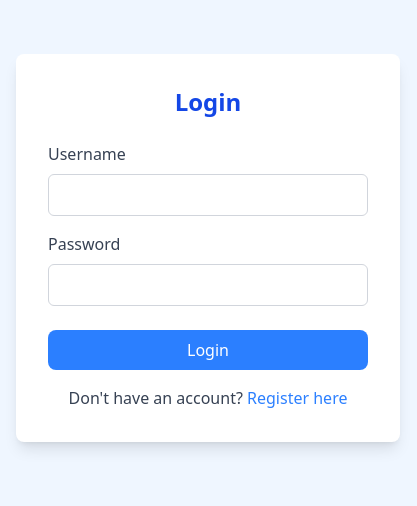
it: Login.tsx tests › should show error when password is too weak
Type "testuser" into the field labelled "Username".
click(208, 195); type("testuser")  # box [48,174,368,216]
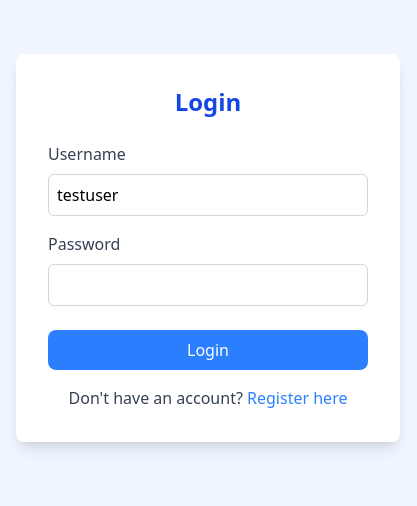
Type "weak" into the password field labelled "Password".
click(208, 285); type("weak")  # box [48,264,368,306]
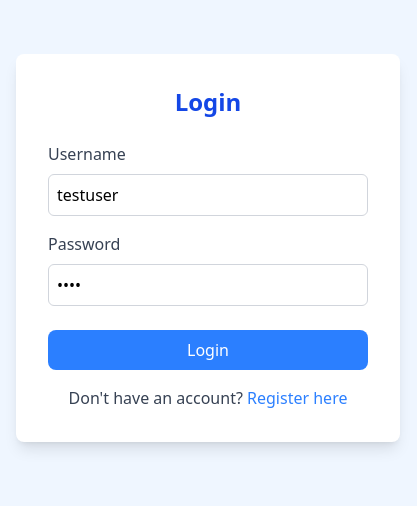
Click the button "Login".
click(208, 350)  # box [48,330,368,370]
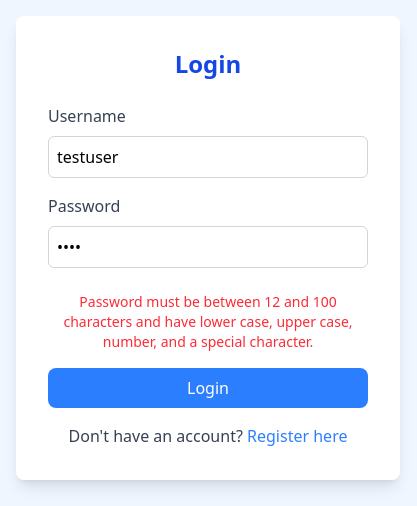
Check: the text "Password must be between 12 and 100 characters and have lower case, upper case, number, and a special character." is shown, box [63,292,352,351]
